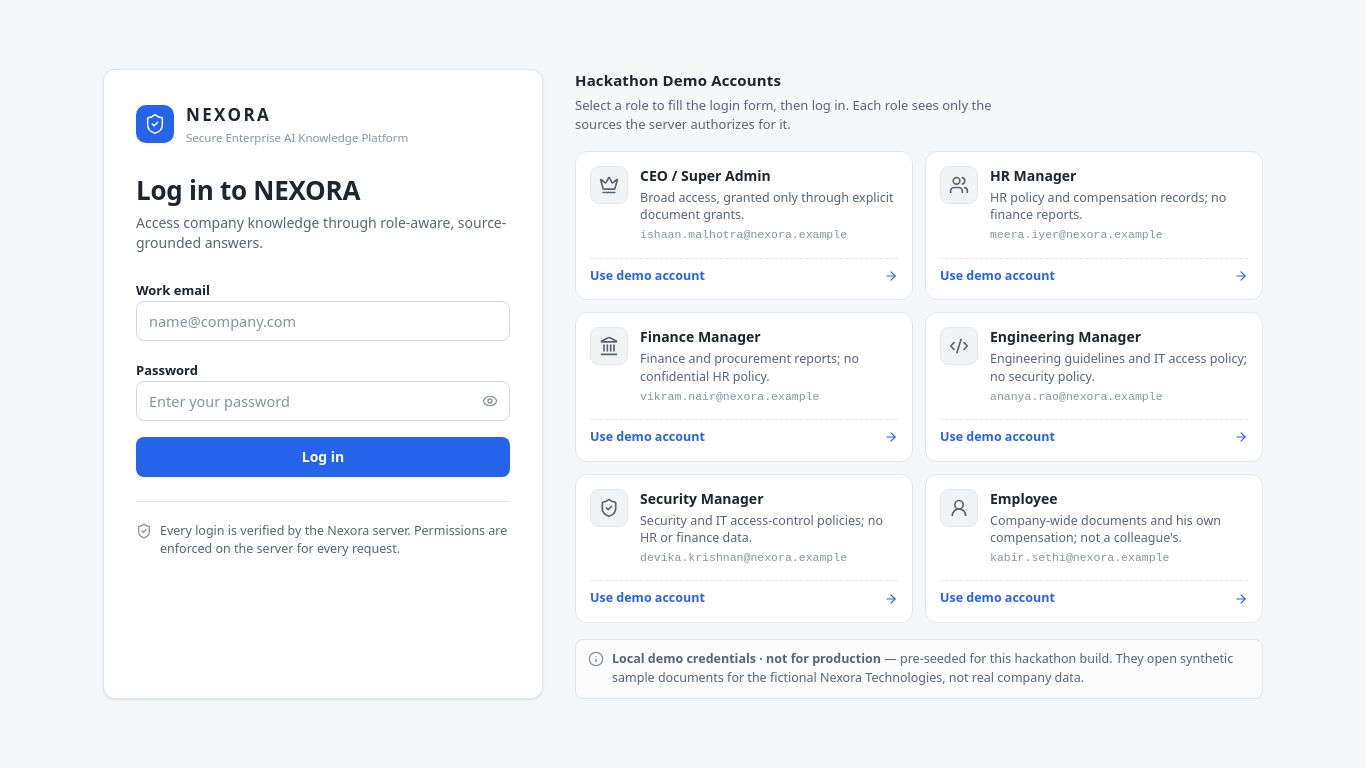
Scenario: authentication flow › toggles password visibility without changing the entered value
Type "secret-value" into the password field labelled "Password" at (323, 401), box [136, 381, 510, 421]
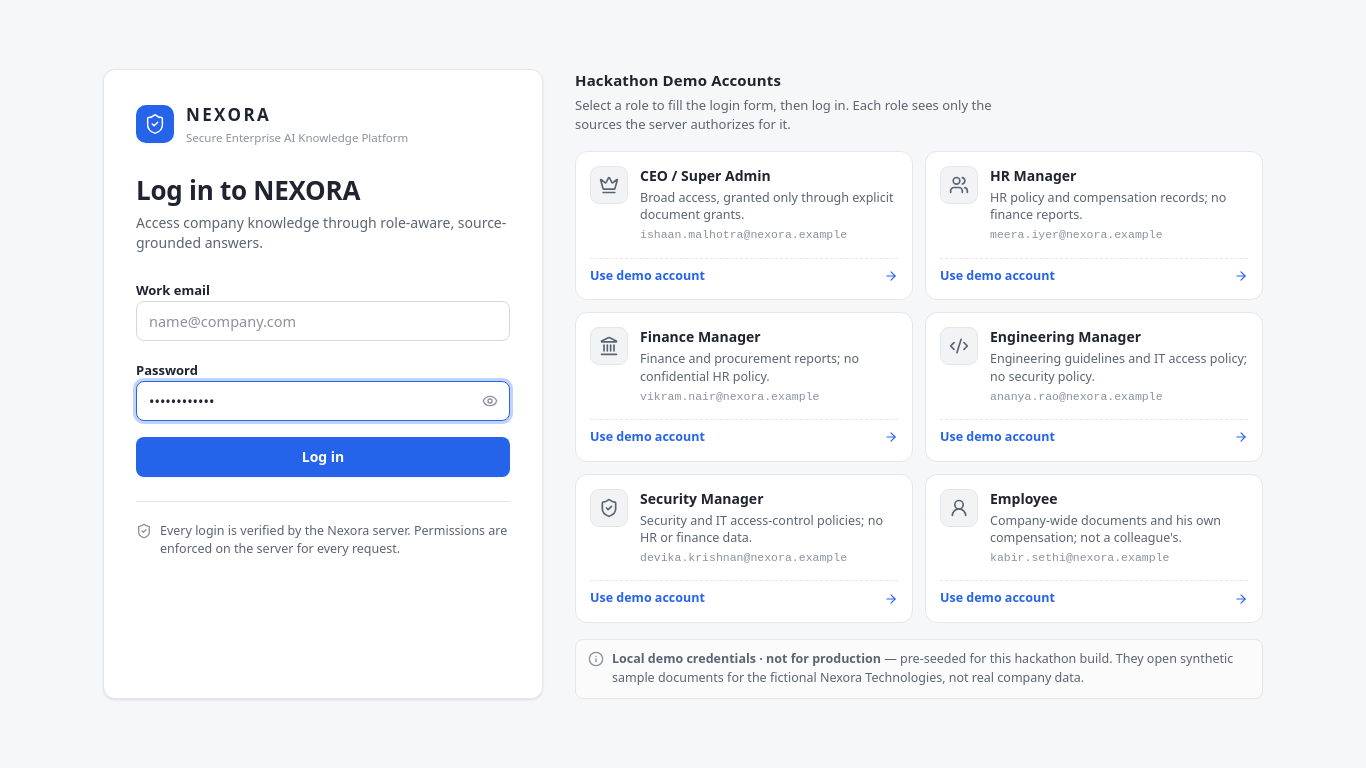
Click the button named "Show password" at (490, 401), box [474, 385, 506, 417]
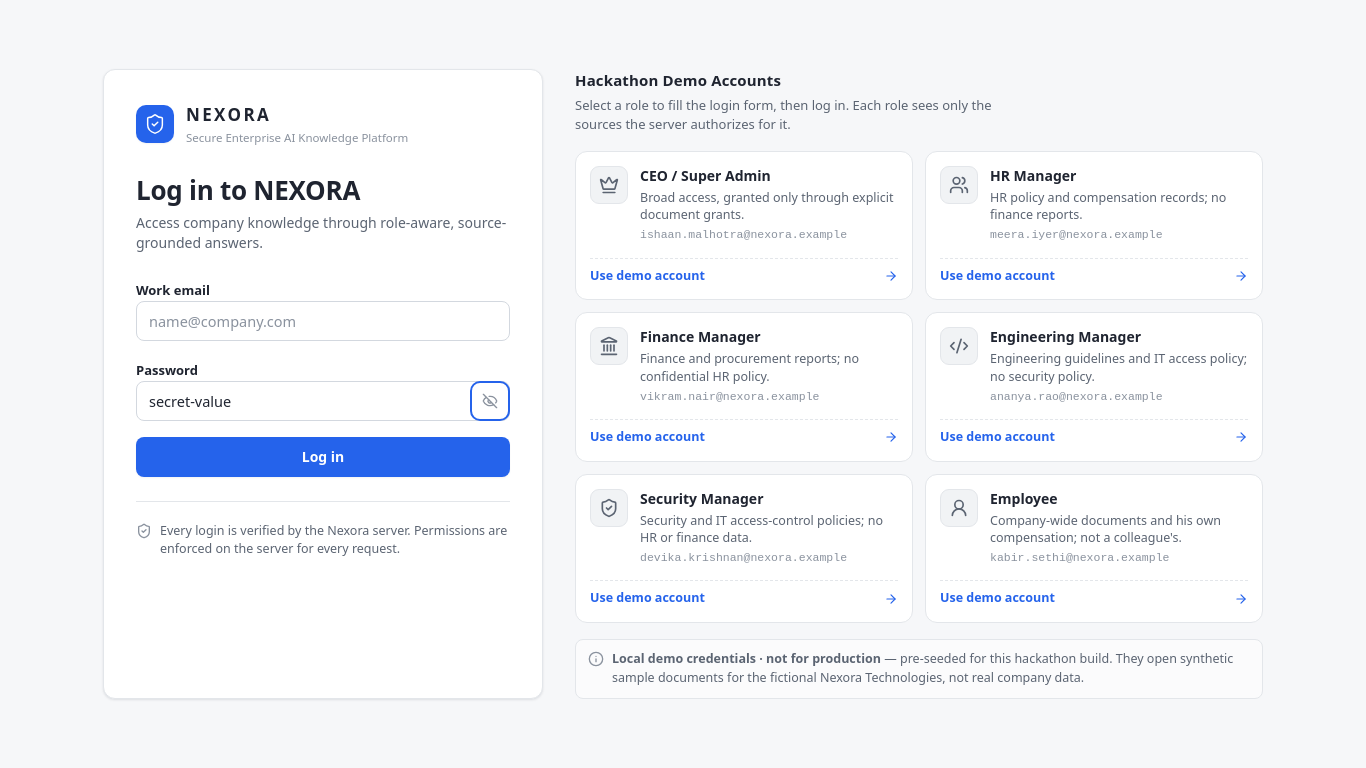
Now the field labelled "Password" shows its text, box [136, 381, 510, 421]
